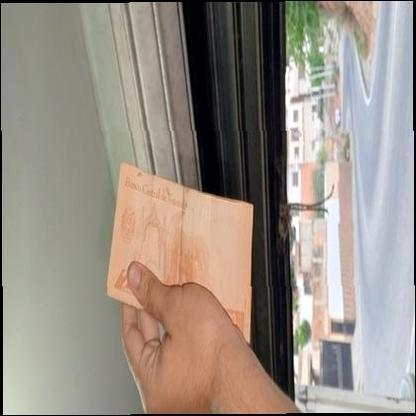twenty-back-vef: (106, 160, 254, 343)
